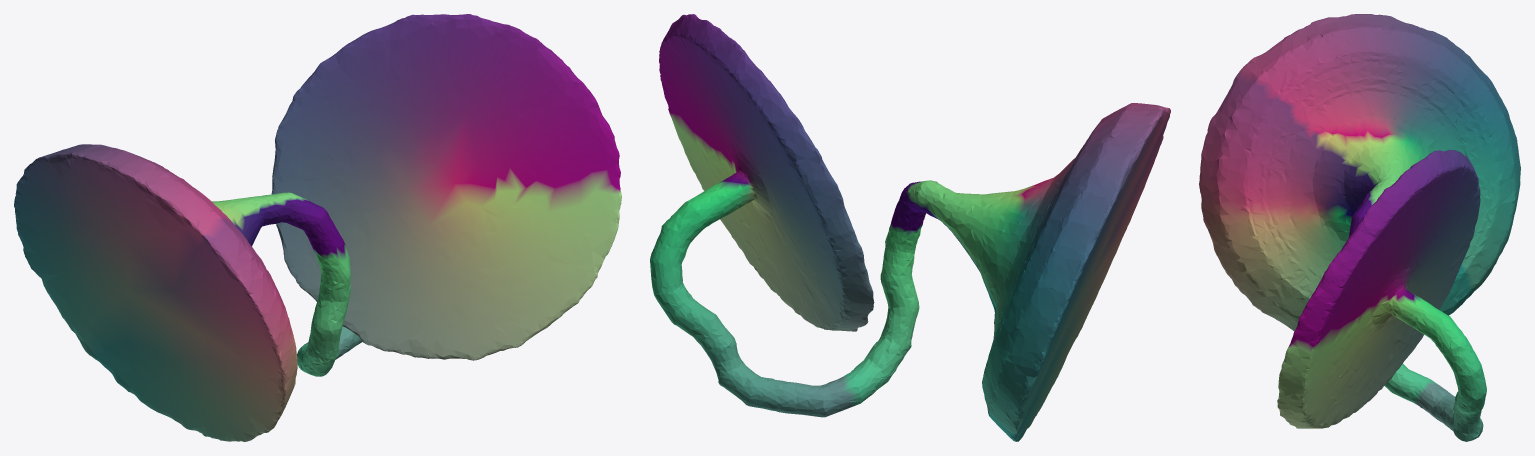
Rendered from lamp-6.off.obj.
3 views of the same model, side by side, from view 1: azimuth 30°, elevation 25°; view 2: azimuth 150°, elevation 25°; view 3: azimuth 270°, elevation 25° (orthographic). The views are drawn at different scales.
Bounding box in the file's own units: 1.6 × 1.02 × 0.9573.
